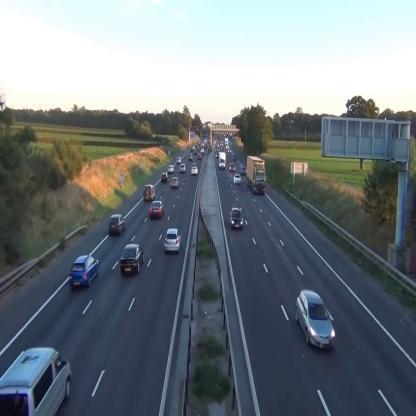car: (296, 290, 336, 350), (70, 255, 100, 288), (120, 243, 144, 275), (164, 228, 182, 253), (108, 214, 126, 236), (230, 207, 243, 228), (149, 200, 164, 218), (233, 174, 242, 185), (160, 172, 169, 182), (171, 177, 178, 189), (180, 163, 186, 172), (168, 165, 174, 173), (192, 166, 198, 174), (230, 162, 235, 171), (241, 166, 246, 174), (176, 156, 180, 163), (233, 154, 237, 161)
lorry: (0, 346, 72, 416), (247, 155, 266, 194), (144, 185, 156, 201), (219, 151, 226, 169)
